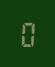zero: (19, 20, 34, 47)
